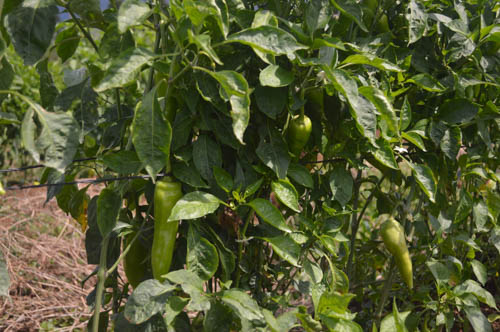ChiliPepper: (146, 182, 178, 282), (380, 220, 415, 288), (124, 228, 148, 292), (282, 116, 310, 162)
